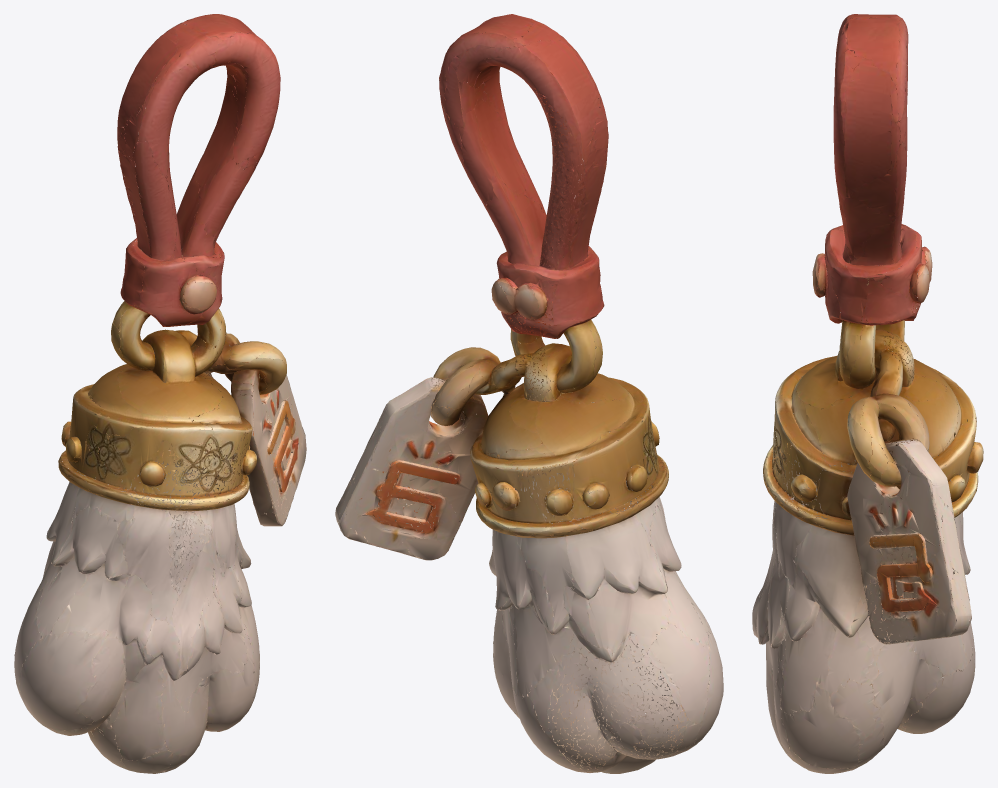
Rendered from lucky_rabbit_foot.glb.
3 views of the same model, side by side, from view 1: azimuth 30°, elevation 25°; view 2: azimuth 150°, elevation 25°; view 3: azimuth 270°, elevation 25° (orthographic). The views are drawn at different scales.
Visible parts, largest first — view 1: LuckyRabbitFoot; view 2: LuckyRabbitFoot; view 3: LuckyRabbitFoot.
Boxes of the visible parts, x1=… form: LuckyRabbitFoot: x1=14, y1=14, x2=306, y2=773; LuckyRabbitFoot: x1=335, y1=14, x2=723, y2=773; LuckyRabbitFoot: x1=752, y1=14, x2=983, y2=773.
Bounding box in the file's own units: 0.5596 × 1.18 × 0.3149.
1 material, 1 textured.
